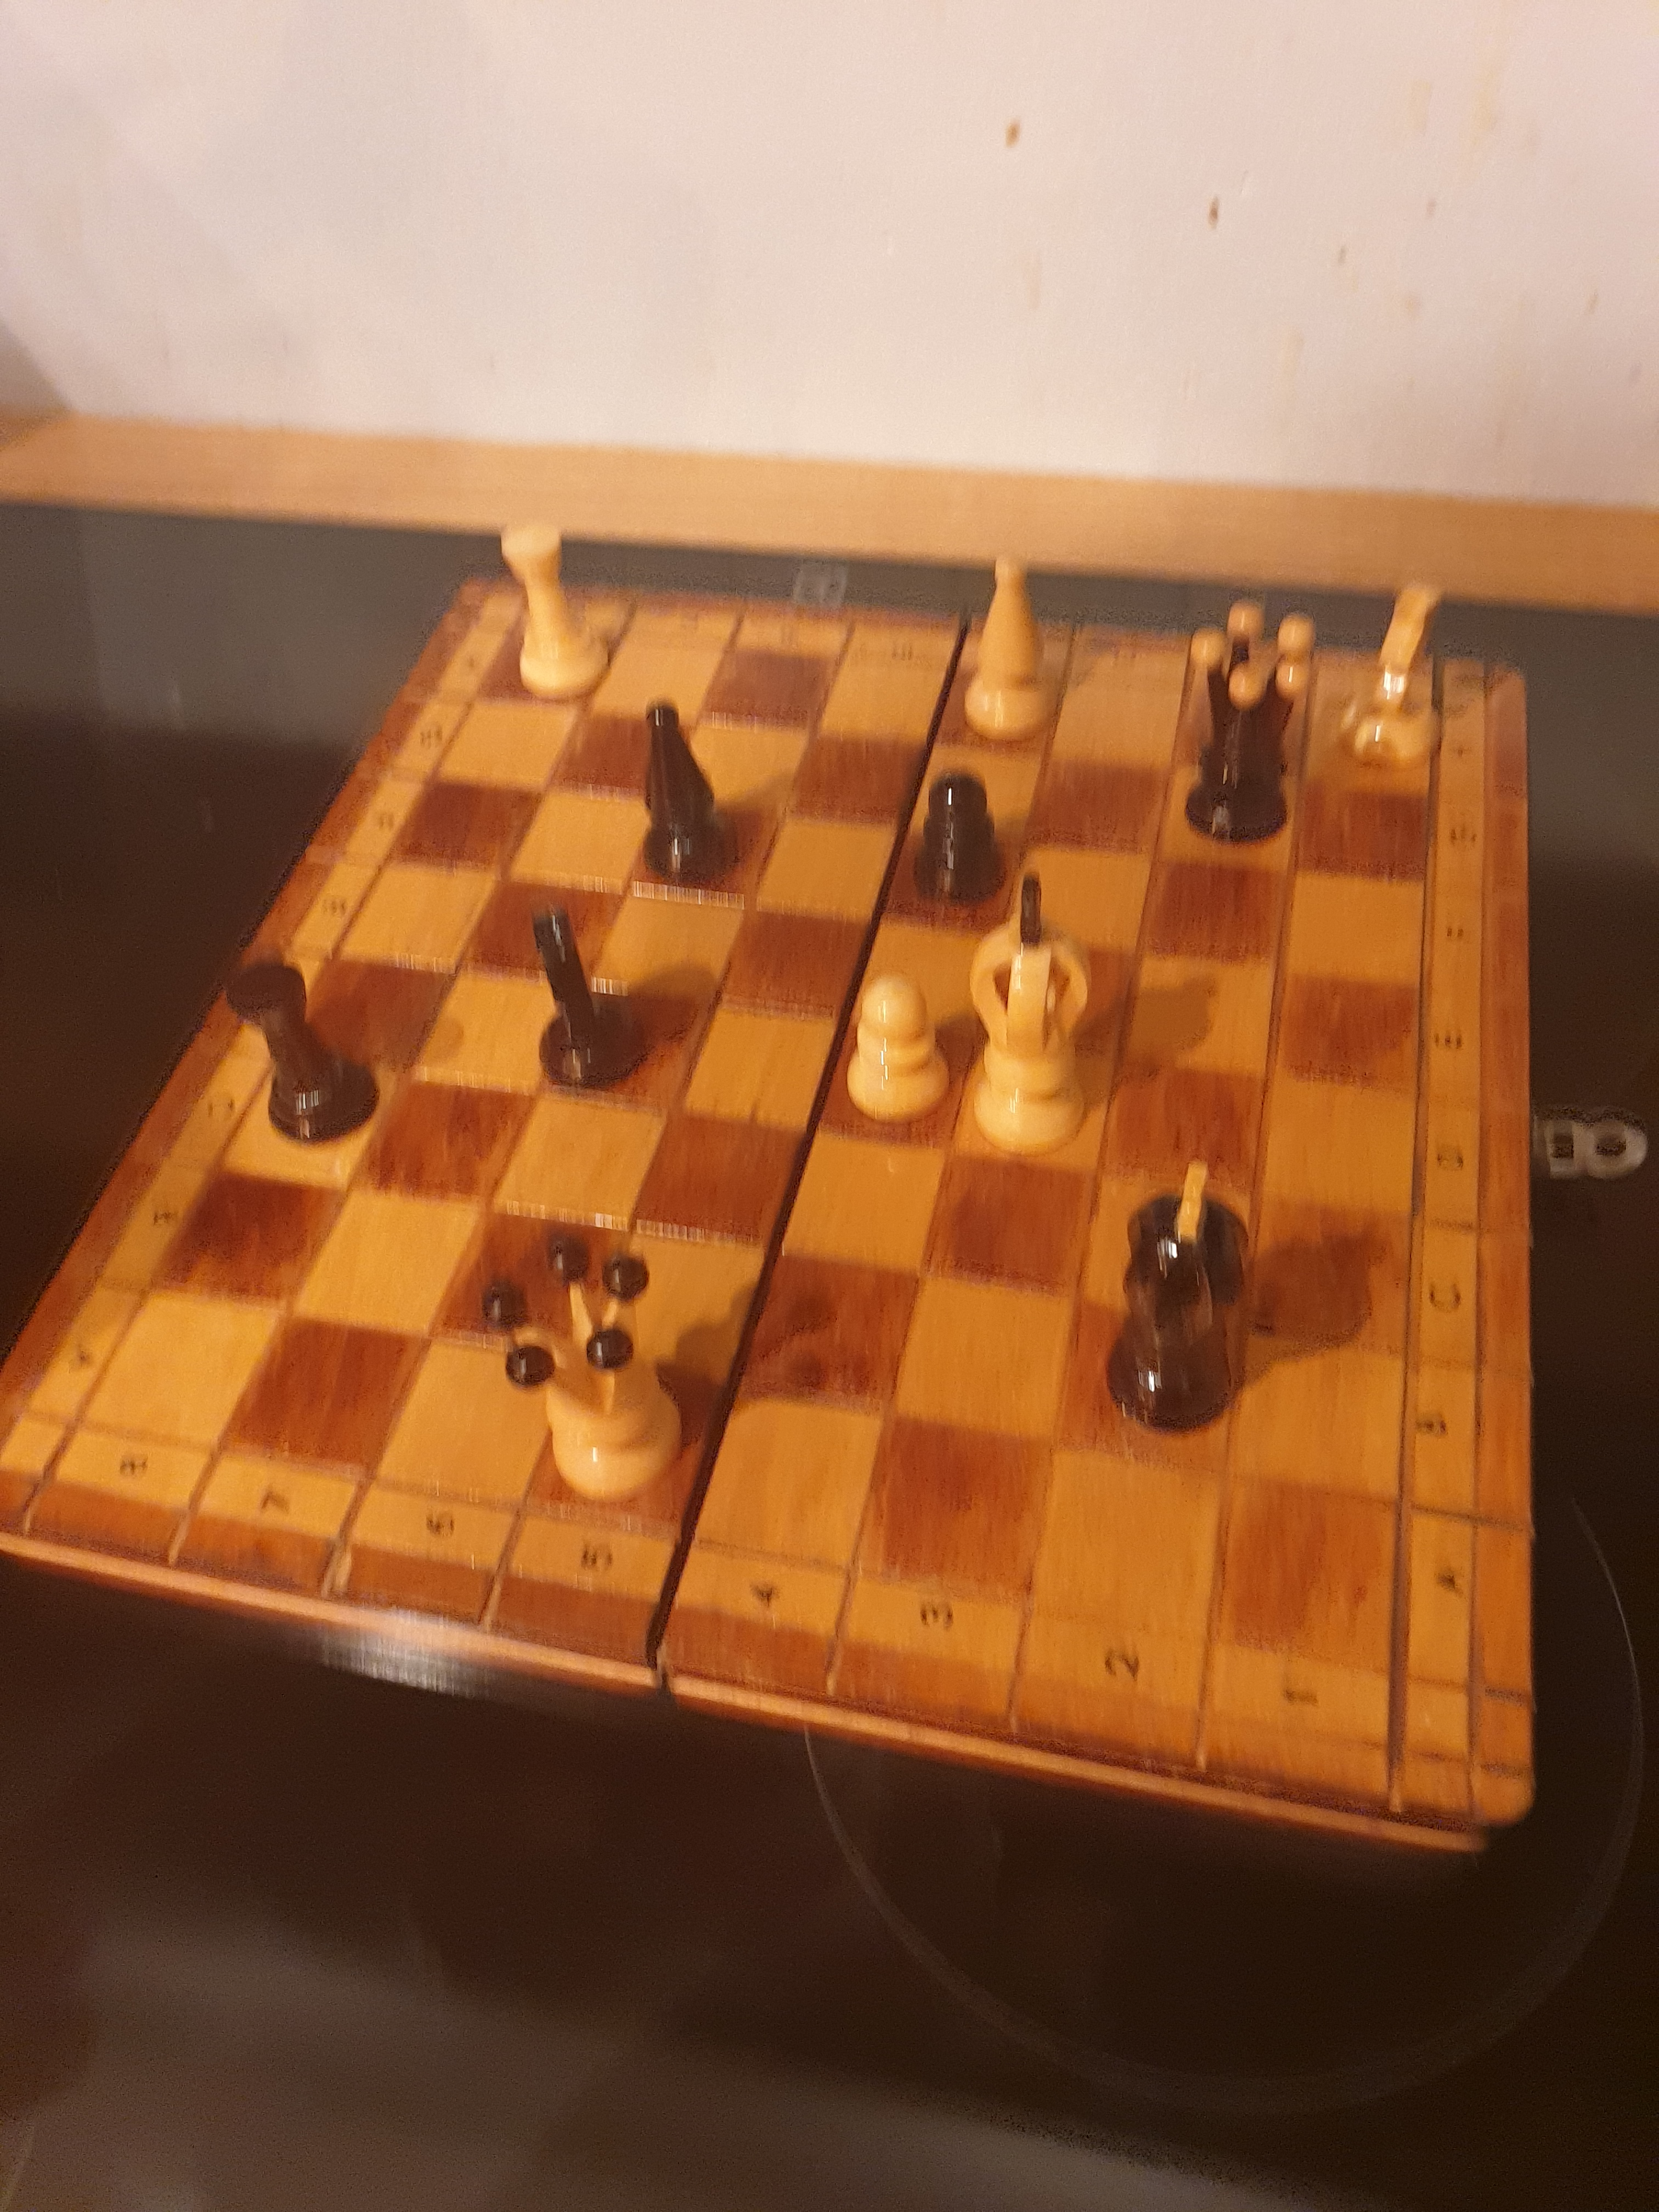bbishop: (620, 685, 751, 900)
bking: (1094, 1144, 1272, 1451)
bknight: (511, 892, 659, 1101)
bpawn: (896, 749, 1016, 928)
bqueen: (1173, 582, 1326, 857)
brook: (213, 941, 396, 1160)
wbishop: (939, 538, 1075, 761)
wking: (958, 864, 1112, 1167)
wknight: (1333, 571, 1457, 773)
wpawn: (835, 965, 958, 1139)
wqueen: (462, 1214, 711, 1514)
wrook: (484, 503, 608, 697)
